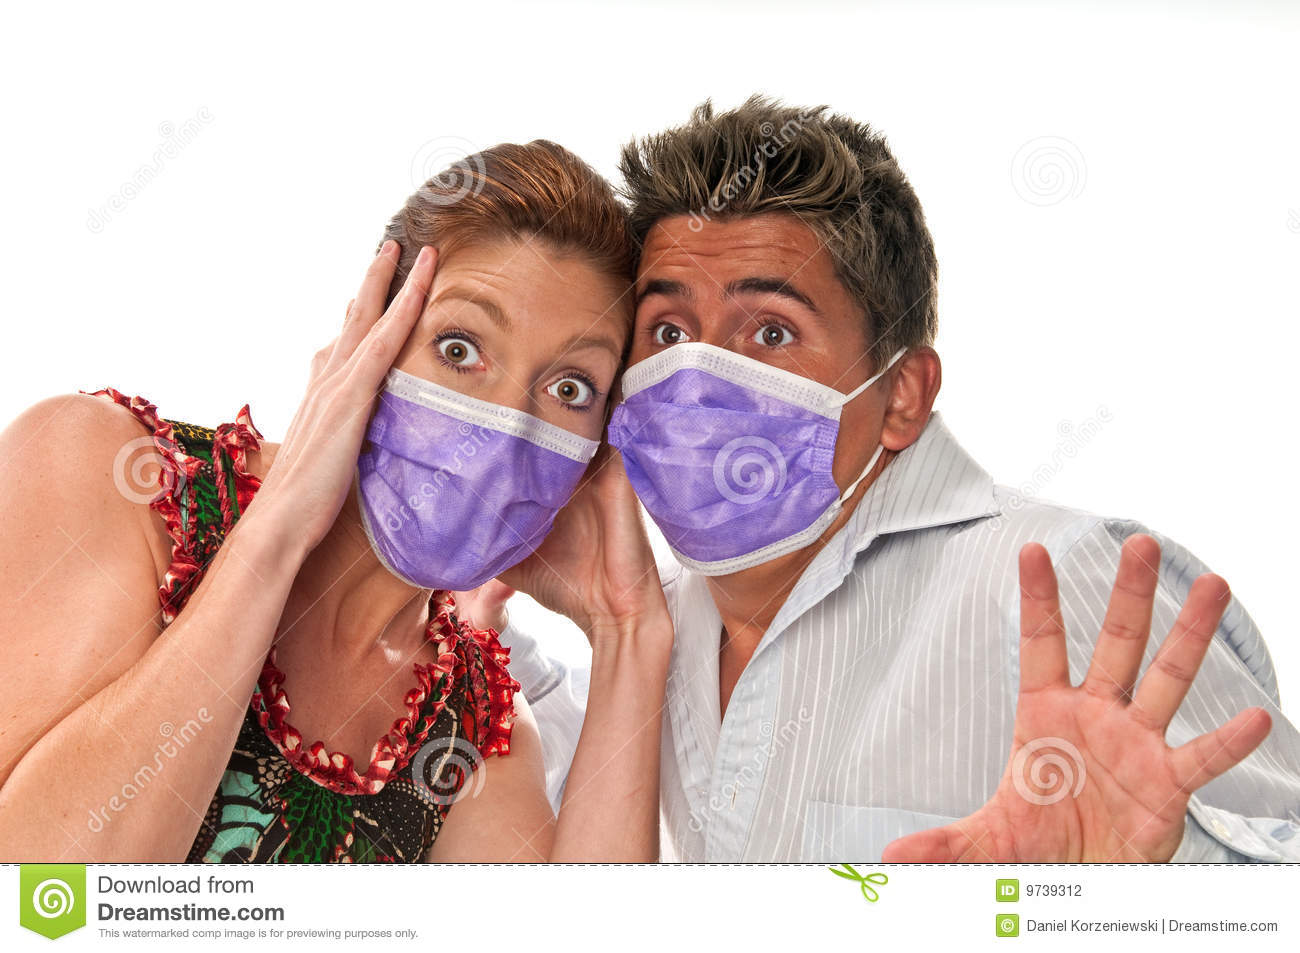mask: (355, 367, 602, 589), (614, 339, 843, 571)
